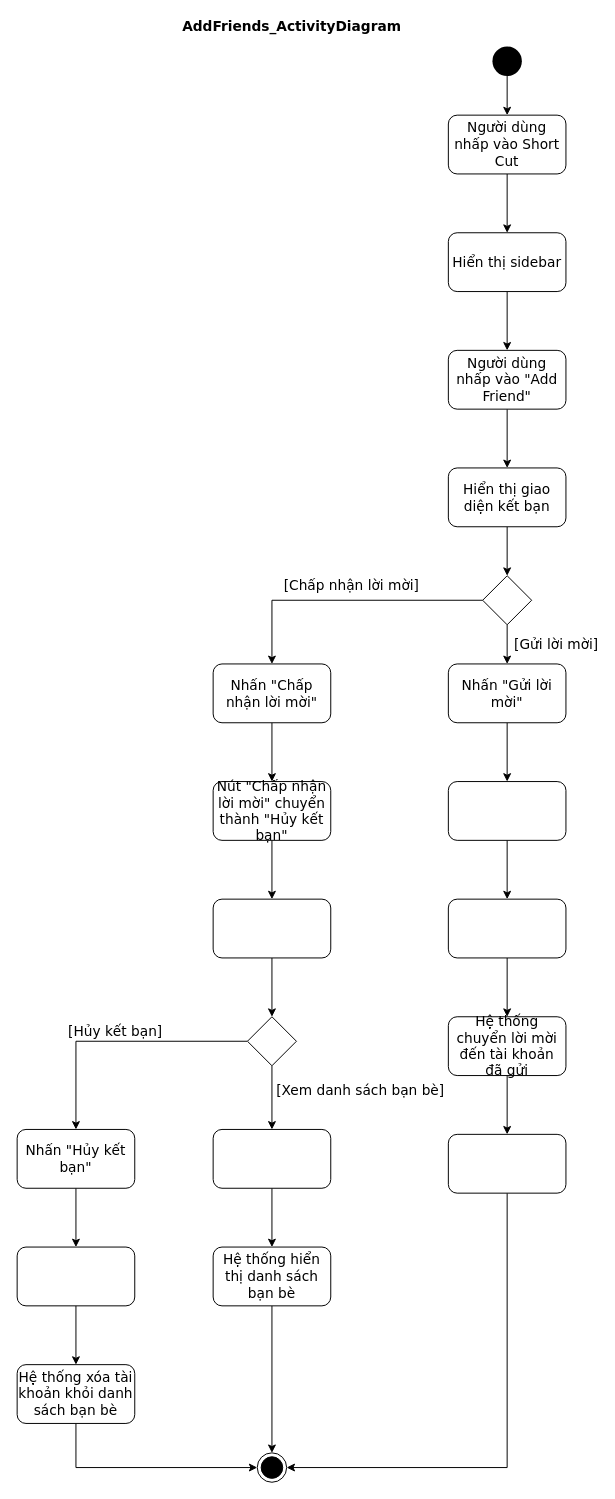
This 615x1499 diagram has some shape labels left out. Each missing label, with the box of its shape:
Người dùng nhấp vào "Gửi lời mời" trực tiếp trên tài khoản: (447, 781, 566, 840)
Nhấn "Xem danh sách bạn bè": (212, 1128, 331, 1188)
Nút "Gửi lời mời" chuyển thành "Hủy yêu cầu": (447, 898, 566, 958)
Nút "Hủy lời mời kết bạn" chuyển thành "Gửi lời mời kết bạn": (16, 1246, 135, 1306)
Tài khoản được lưu vào danh sách bạn bè: (212, 898, 331, 958)
Tài khoản được thêm vào danh sách yêu cầu kết bạn: (447, 1133, 566, 1193)
